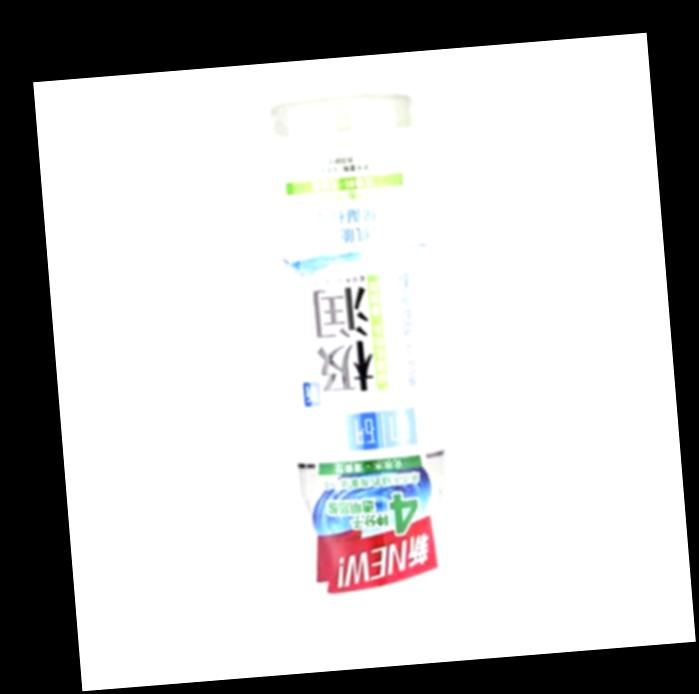cosmetic: (273, 99, 458, 621)
